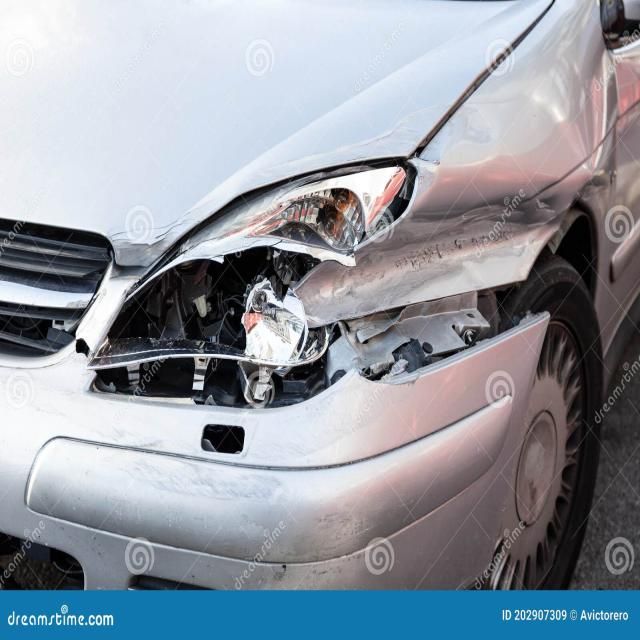crush: (74, 94, 621, 416)
